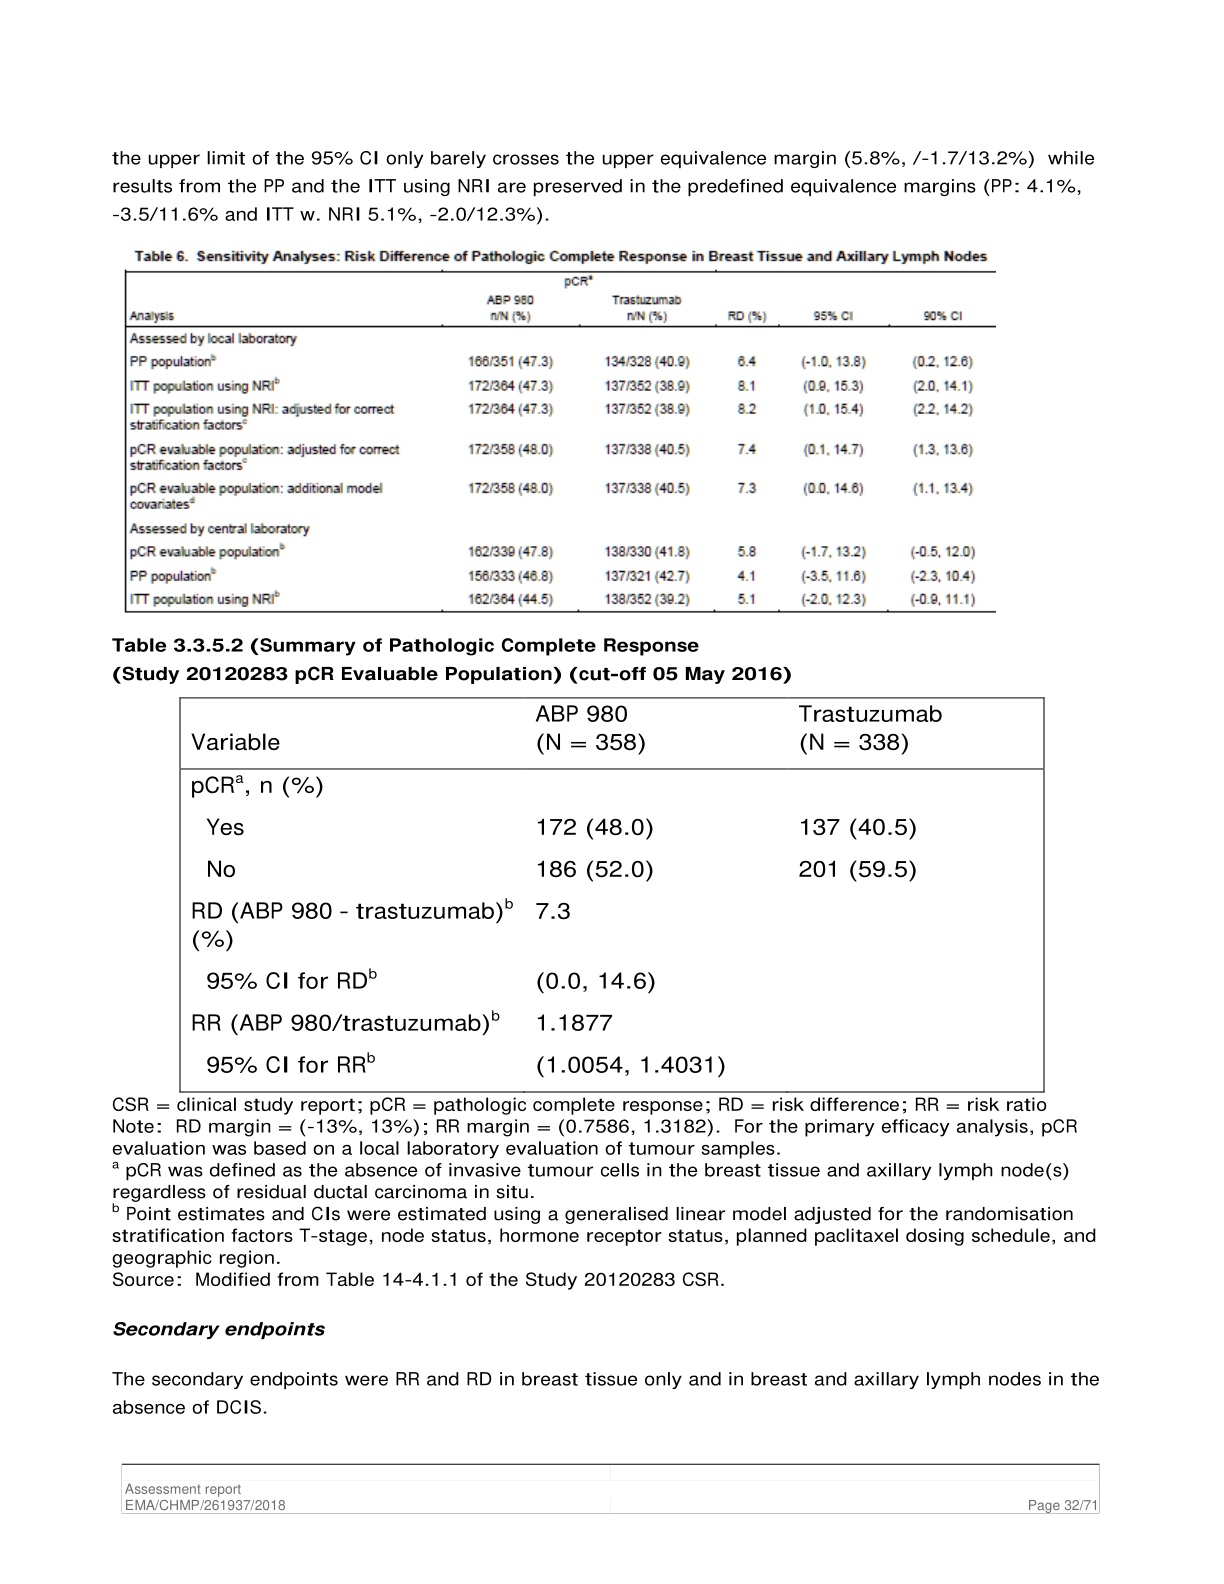partial_lined_merged_cells: (177, 697, 1045, 1095), (123, 270, 998, 615)
